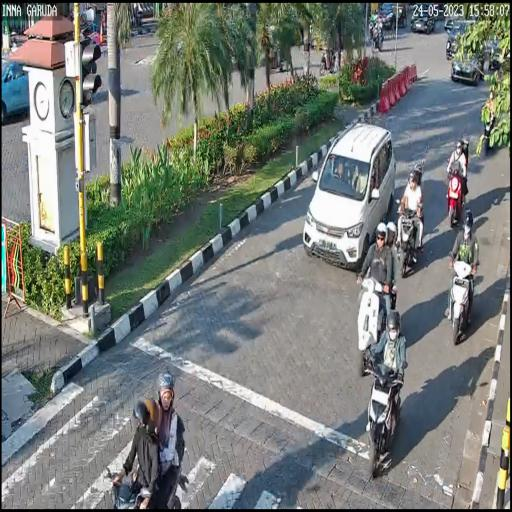mobil: (305, 122, 399, 266)
motor: (367, 358, 406, 476), (356, 272, 396, 374), (449, 252, 480, 345), (395, 199, 424, 279), (442, 156, 468, 229)
